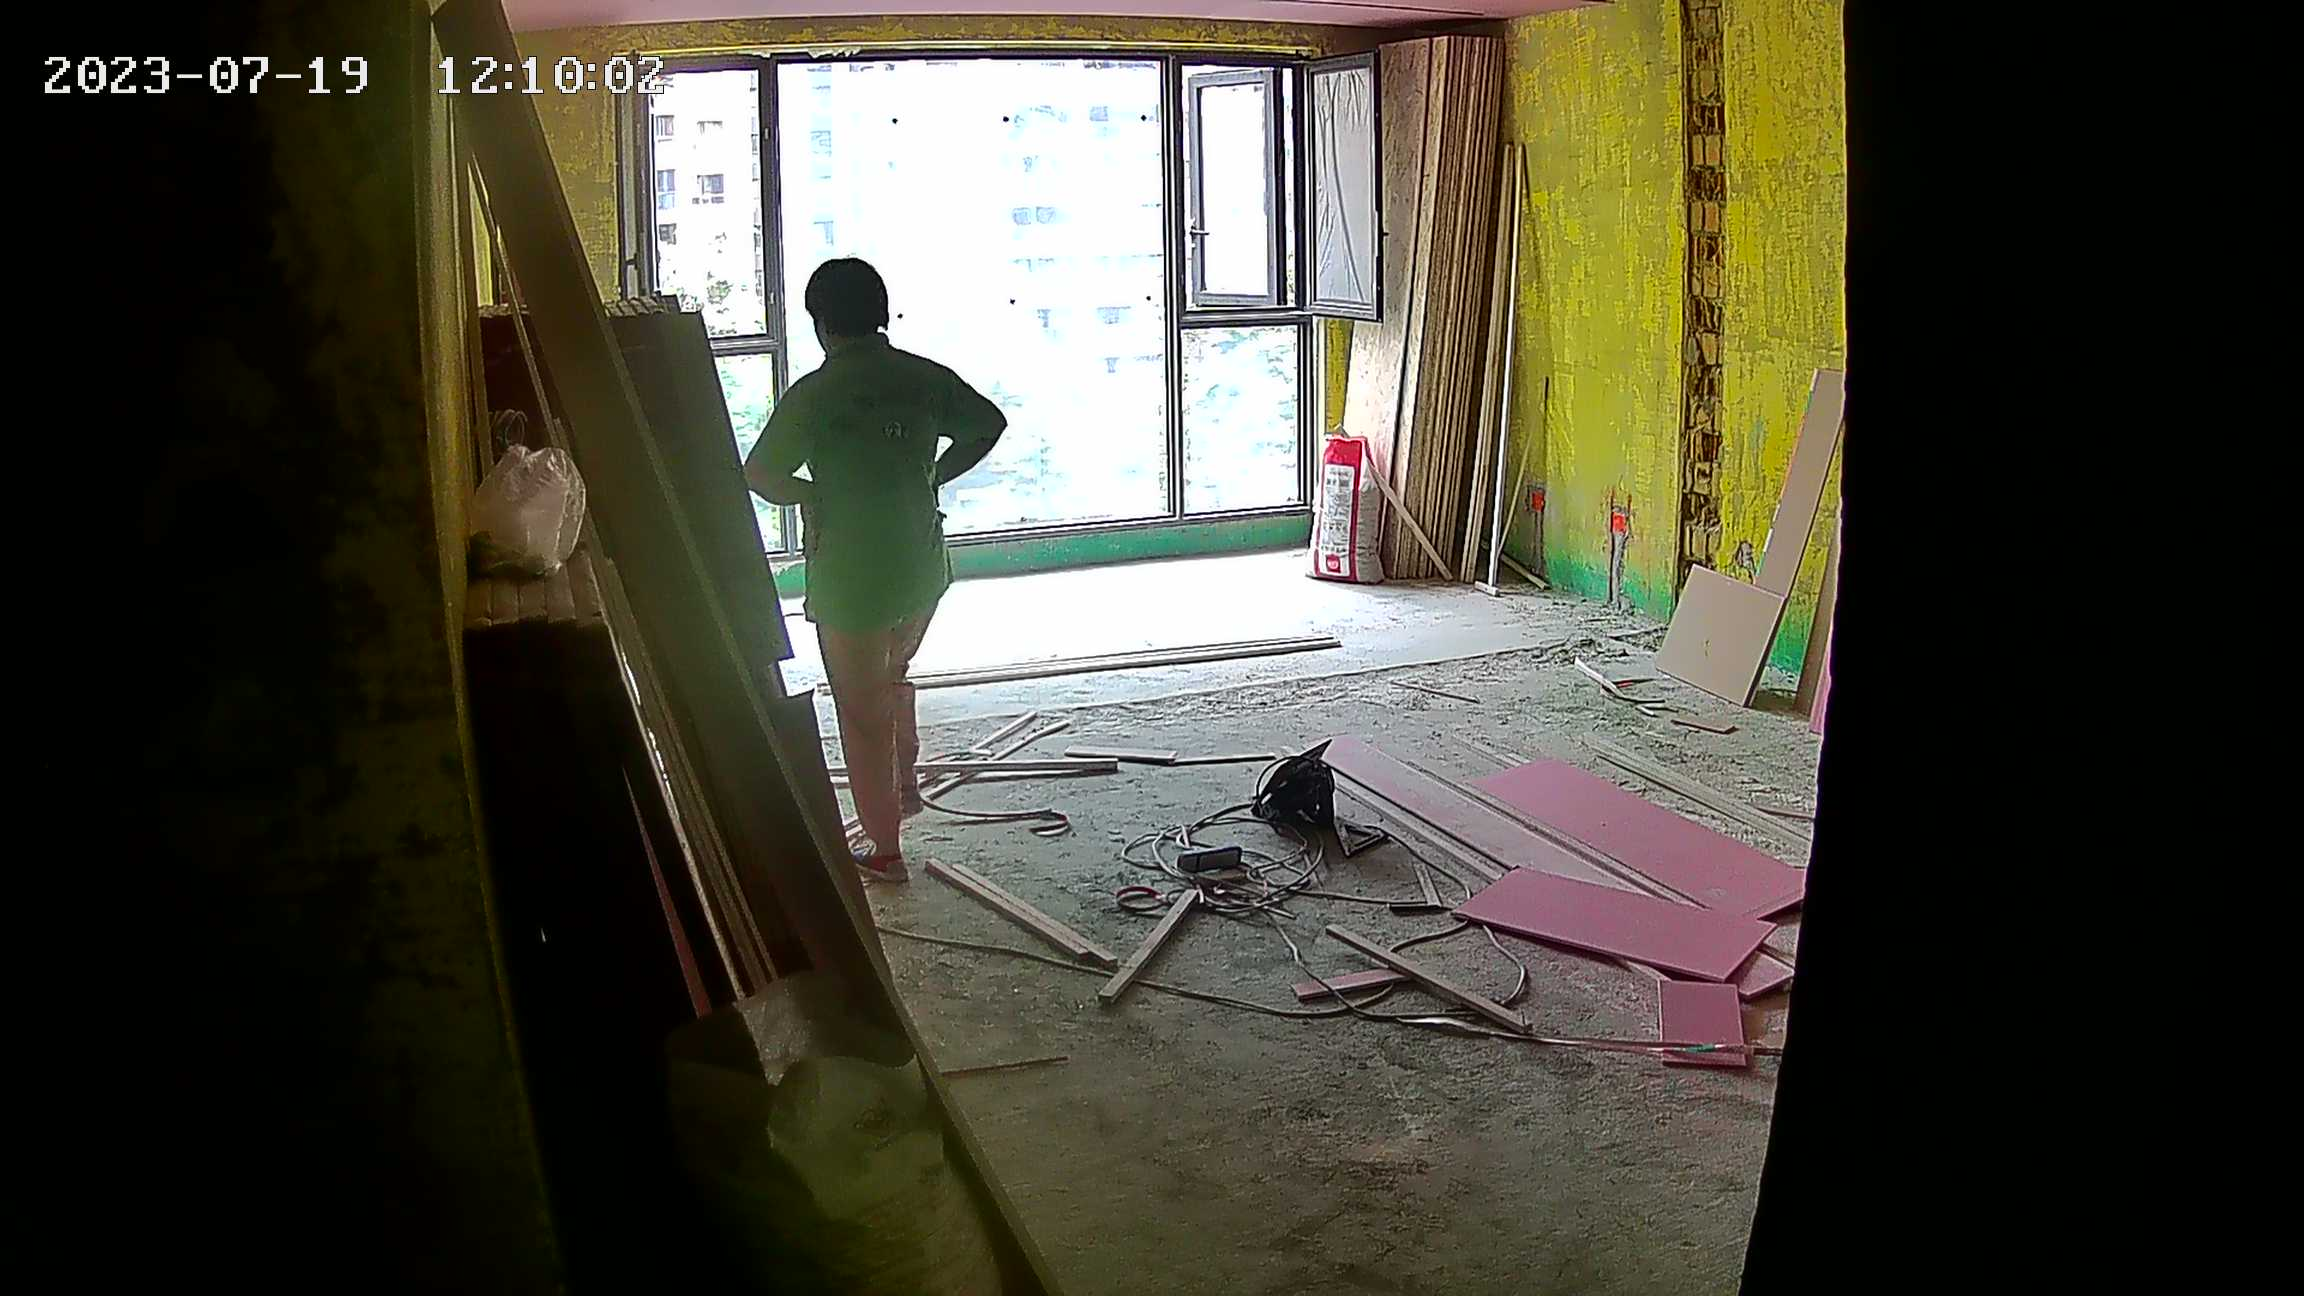people: (734, 258, 1018, 889)
window: (642, 64, 1347, 535)
